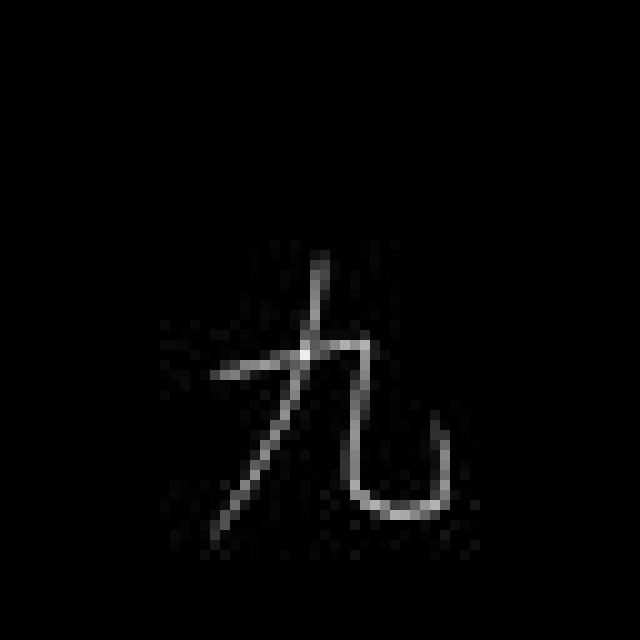9 -nine-: (208, 249, 459, 529)
